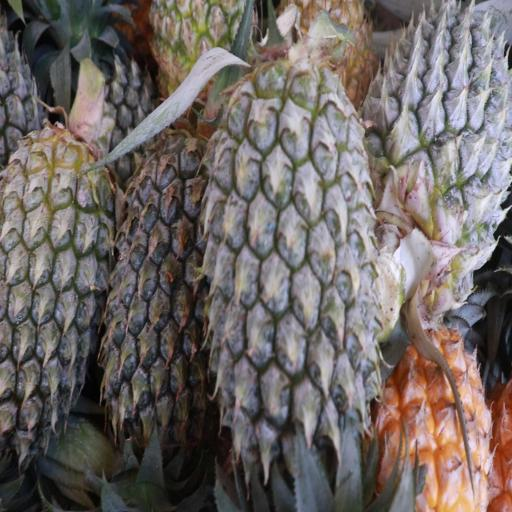Pineapple - v8 v1: (378, 326, 490, 512)
